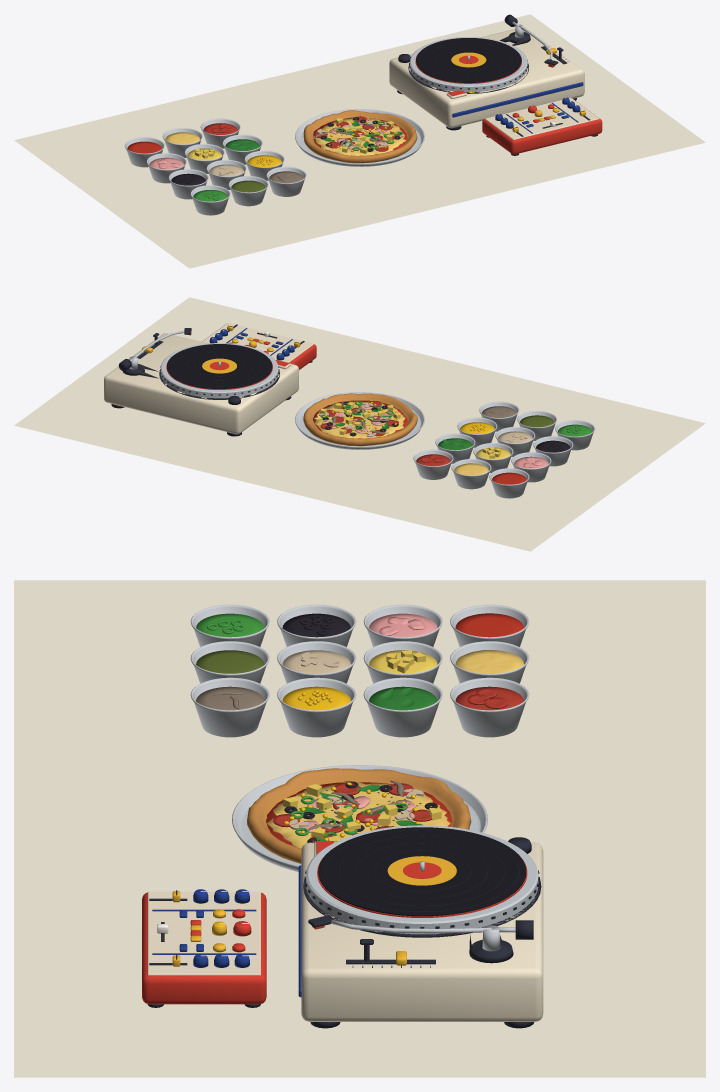
Rendered from pizza_beats.glb.
3 renders of one model, top to bottom at view 1: azimuth 30°, elevation 25°; view 2: azimuth 150°, elevation 25°; view 3: azimuth 270°, elevation 25°, orthographic. The views are drawn at different scales.
Parts seen in each view (by area): view 1: Mantel, Tornamesa, Tornamesa_Disco, Controles_Base, Masa_Pizza, Bandeja, Pizza_Queso, Recipiente_Jalapeno, Recipiente_Anchoas, Recipiente_Oregano, Recipiente_Salsa, Recipiente_Aceitunas (+10 smaller); view 2: Mantel, Tornamesa, Tornamesa_Disco, Masa_Pizza, Controles_Base, Bandeja, Pizza_Queso, Recipiente_Salsa, Recipiente_Pepperoni, Recipiente_Queso, Recipiente_Jalapeno, Recipiente_Jamon (+9 smaller); view 3: Mantel, Tornamesa, Tornamesa_Disco, Controles_Base, Masa_Pizza, Recipiente_Albahaca, Recipiente_Anchoas, Recipiente_Maiz, Recipiente_Pepperoni, Bandeja, Pizza_Queso, Recipiente_Aceitunas (+11 smaller).
Boxes of the visible parts, left/top/right/bottom form: Mantel: left=14, top=14, right=705, bottom=268; Tornamesa: left=389, top=14, right=584, bottom=130; Tornamesa_Disco: left=409, top=37, right=528, bottom=92; Controles_Base: left=482, top=97, right=602, bottom=155; Masa_Pizza: left=303, top=110, right=417, bottom=163; Bandeja: left=295, top=109, right=424, bottom=166; Pizza_Queso: left=313, top=118, right=405, bottom=155; Recipiente_Jalapeno: left=190, top=185, right=230, bottom=215; Recipiente_Anchoas: left=266, top=166, right=306, bottom=196; Recipiente_Oregano: left=228, top=176, right=268, bottom=206; Recipiente_Salsa: left=124, top=137, right=164, bottom=167; Recipiente_Aceitunas: left=168, top=169, right=208, bottom=199; Mantel: left=14, top=297, right=705, bottom=551; Tornamesa: left=104, top=328, right=298, bottom=436; Tornamesa_Disco: left=160, top=343, right=279, bottom=398; Masa_Pizza: left=303, top=393, right=417, bottom=446; Controles_Base: left=202, top=323, right=316, bottom=369; Bandeja: left=295, top=392, right=424, bottom=449; Pizza_Queso: left=314, top=401, right=405, bottom=438; Recipiente_Salsa: left=489, top=468, right=529, bottom=498; Recipiente_Pepperoni: left=413, top=449, right=453, bottom=479; Recipiente_Queso: left=451, top=459, right=491, bottom=489; Recipiente_Jalapeno: left=555, top=420, right=595, bottom=450; Recipiente_Jamon: left=511, top=452, right=551, bottom=482; Mantel: left=14, top=580, right=705, bottom=1077; Tornamesa: left=298, top=837, right=543, bottom=1028; Tornamesa_Disco: left=304, top=825, right=539, bottom=934; Controles_Base: left=142, top=891, right=266, bottom=1007; Masa_Pizza: left=247, top=768, right=471, bottom=863; Recipiente_Albahaca: left=363, top=677, right=442, bottom=737; Recipiente_Anchoas: left=190, top=677, right=269, bottom=737; Recipiente_Maiz: left=277, top=677, right=356, bottom=737; Recipiente_Pepperoni: left=450, top=677, right=529, bottom=737; Bandeja: left=232, top=765, right=487, bottom=871; Pizza_Queso: left=266, top=781, right=450, bottom=848; Recipiente_Aceitunas: left=277, top=604, right=356, bottom=646.
Bounding box in the file's own units: 1.7 × 0.149 × 1.
